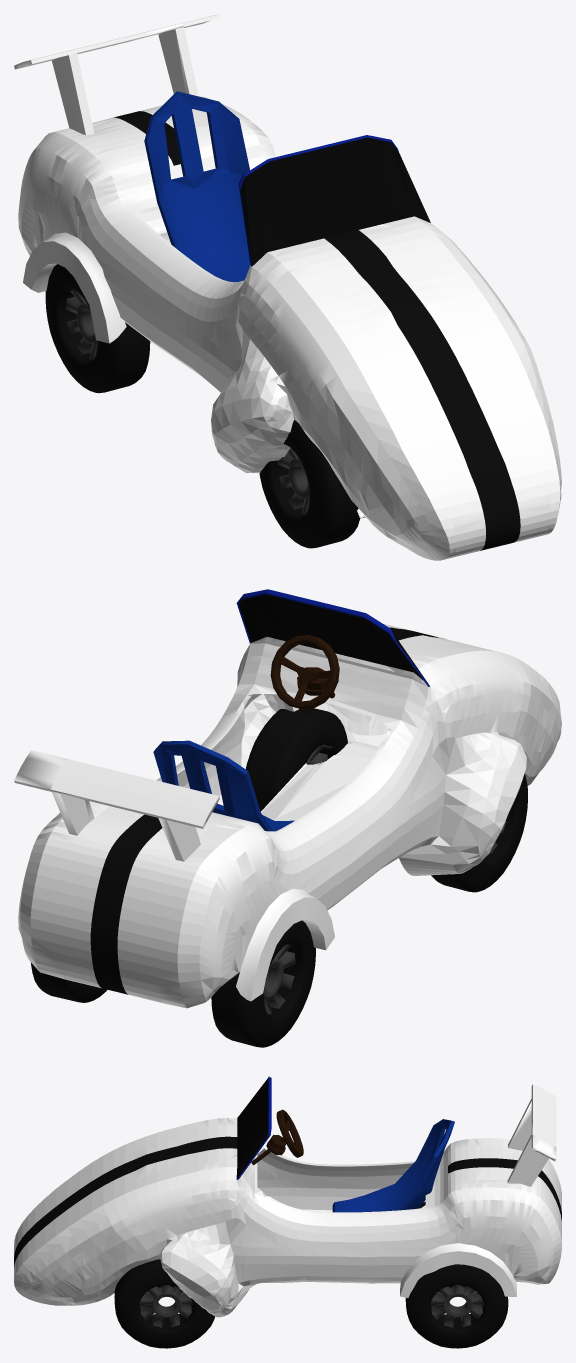
Rendered from nose3.FBX.
3 renders of one model, top to bottom at view 1: azimuth 30°, elevation 25°; view 2: azimuth 150°, elevation 25°; view 3: azimuth 270°, elevation 25°, orthographic. The views are drawn at different scales.
Parts seen in each view (by area): view 1: Line001, Line002, Object007, Object005, Tube002; view 2: Line001, Object005, Object006, Line002, Tube002, Object007, Cylinder001, Object003; view 3: Line001, Object003, Object006, Line002, Tube001, Cylinder001.
Boxes of the visible parts, left/top/right/bottom form: Line001: left=14, top=14, right=561, bottom=560; Line002: left=144, top=91, right=250, bottom=282; Object007: left=259, top=420, right=359, bottom=548; Object005: left=45, top=264, right=150, bottom=393; Tube002: left=23, top=232, right=126, bottom=343; Line001: left=14, top=589, right=561, bottom=1008; Object005: left=211, top=920, right=315, bottom=1047; Object006: left=246, top=708, right=347, bottom=811; Line002: left=153, top=740, right=294, bottom=831; Tube002: left=236, top=888, right=334, bottom=1001; Object007: left=431, top=774, right=527, bottom=892; Cylinder001: left=270, top=635, right=339, bottom=709; Object003: left=30, top=962, right=107, bottom=1002; Line001: left=14, top=1076, right=561, bottom=1317; Object003: left=405, top=1264, right=508, bottom=1348; Object006: left=114, top=1259, right=214, bottom=1348; Line002: left=332, top=1119, right=454, bottom=1212; Tube001: left=400, top=1243, right=516, bottom=1297; Cylinder001: left=276, top=1109, right=303, bottom=1157.
Bounding box in the file's own units: 137 × 144 × 329.
